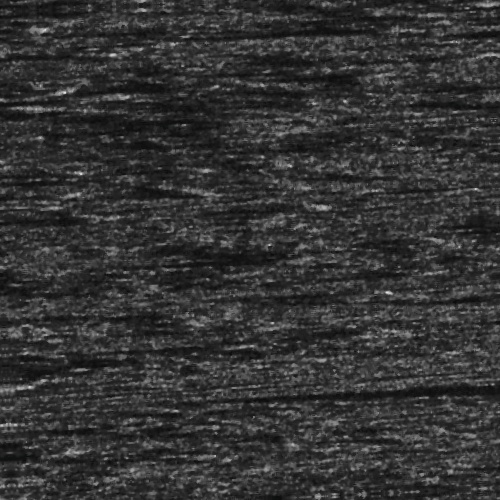object: (42, 83, 187, 96), (0, 89, 74, 104), (360, 31, 443, 40), (90, 0, 183, 6), (78, 202, 119, 213), (0, 371, 58, 378), (29, 75, 70, 84), (24, 436, 65, 443), (0, 119, 33, 126), (0, 405, 32, 412)
shadow: (247, 391, 500, 402), (197, 31, 402, 40), (0, 83, 114, 96), (0, 202, 98, 213), (0, 0, 136, 6), (0, 75, 50, 84), (0, 436, 45, 443)
